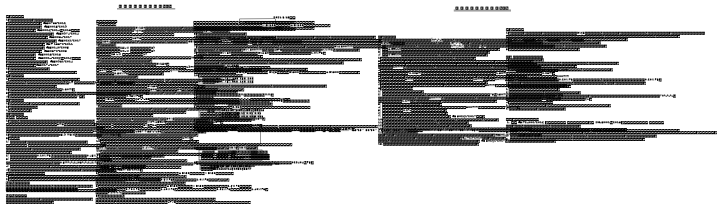corridor: (150, 14, 265, 26), (151, 67, 262, 79)
room: (133, 33, 262, 51)
wall: (224, 188, 290, 195)
